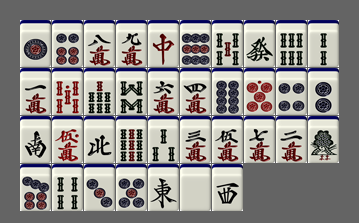0m: (52, 116, 83, 163)
0p: (244, 68, 275, 115)
0s: (52, 68, 83, 115)
1m: (20, 68, 51, 115)
1p: (20, 20, 51, 67)
1s: (308, 116, 339, 163)
1z: (148, 164, 179, 211)
2m: (276, 116, 307, 163)
2p: (308, 68, 339, 115)
2s: (308, 20, 339, 67)
2z: (20, 116, 51, 163)
3m: (180, 116, 211, 163)
3p: (84, 164, 115, 211)
3s: (148, 116, 179, 163)
3z: (212, 164, 243, 211)
4m: (180, 68, 211, 115)
4p: (276, 68, 307, 115)
4s: (52, 164, 83, 211)
4z: (84, 116, 115, 163)
5m: (212, 116, 243, 163)
5p: (116, 164, 147, 211)
5s: (212, 20, 243, 67)
5z: (180, 164, 211, 211)
6m: (148, 68, 179, 115)
6p: (52, 20, 83, 67)
6s: (276, 20, 307, 67)
6z: (244, 20, 275, 67)
7m: (244, 116, 275, 163)
7p: (20, 164, 51, 211)
7s: (84, 68, 115, 115)
7z: (148, 20, 179, 67)
8m: (84, 20, 115, 67)
8p: (212, 68, 243, 115)
8s: (116, 68, 147, 115)
9m: (116, 20, 147, 67)
9p: (180, 20, 211, 67)
9s: (116, 116, 147, 163)
